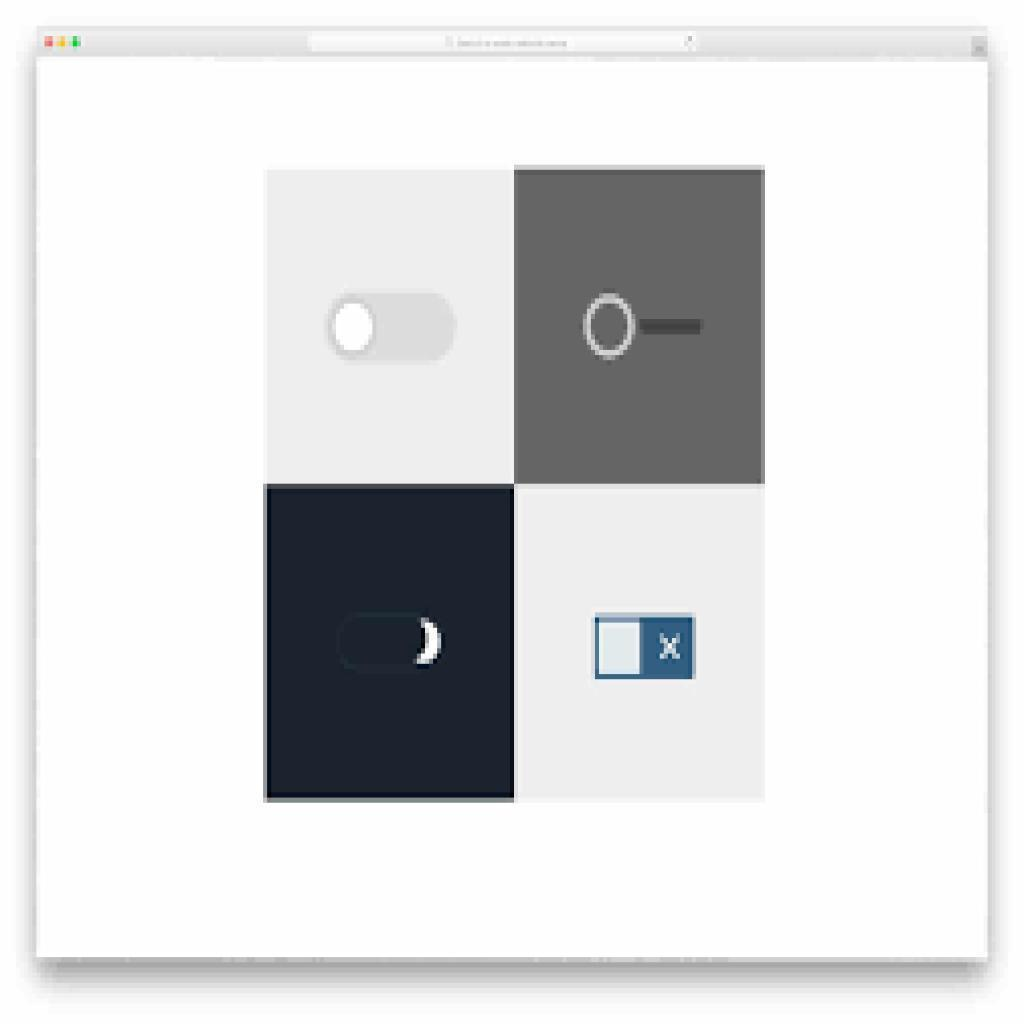switch: (324, 285, 456, 371), (590, 610, 699, 684)
